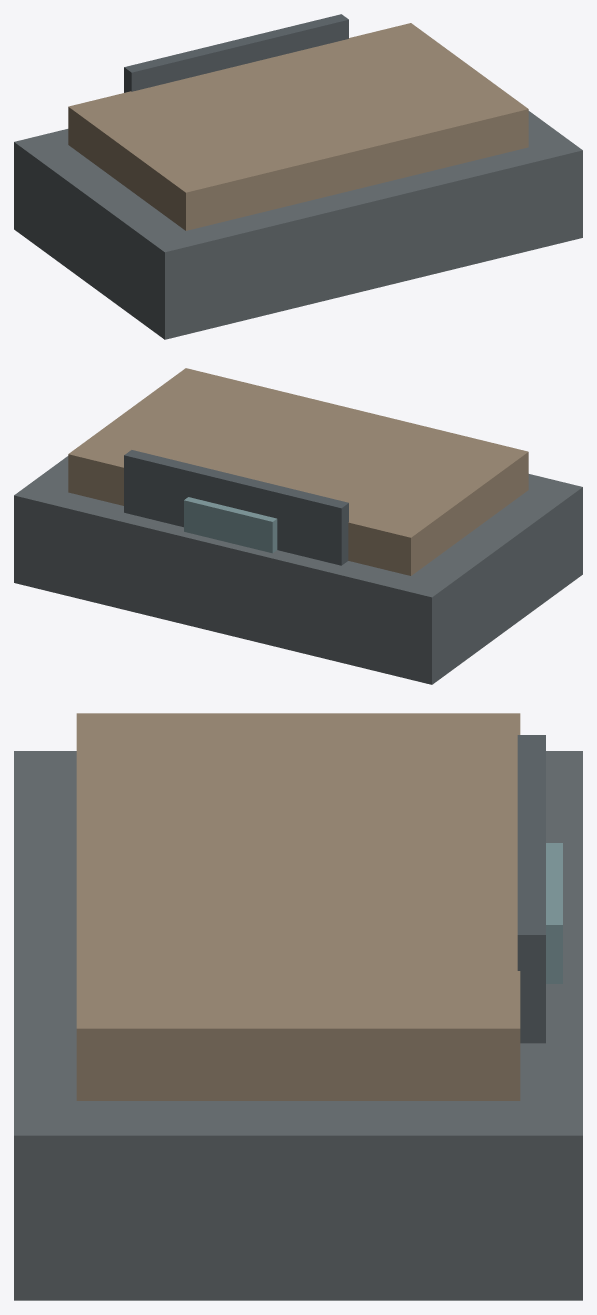
Rendered from iz3_production_planter_02.glb.
The picture shows the model from 3 angles, top to bottom: view 1: azimuth 30°, elevation 25°; view 2: azimuth 150°, elevation 25°; view 3: azimuth 270°, elevation 25°; orthographic projection. The views are drawn at different scales.
Visible parts, largest first — view 1: base, cabinet, panel; view 2: base, cabinet, panel, display; view 3: cabinet, base, panel, display.
Part boxes in pixels (x1,y1,x2,y2): base: (14,111,582,339); cabinet: (68,23,528,230); panel: (124,14,348,92); base: (14,456,582,684); cabinet: (68,368,528,575); panel: (124,450,348,565); display: (184,497,277,553); cabinet: (76,713,520,1100); base: (14,751,582,1300); panel: (517,735,545,1043); display: (546,843,562,983).
Size of the model in its own units: 1.6 by 0.53 by 1.
